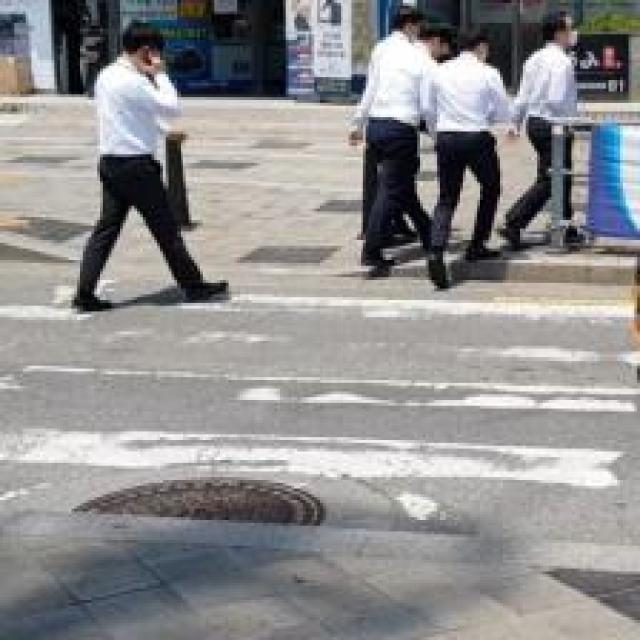crosswalk: (2, 281, 640, 521)
